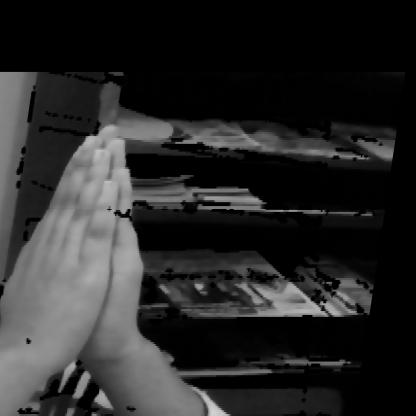namaste: (0, 118, 199, 414)
